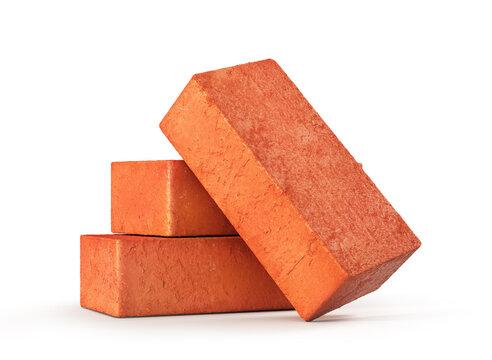Bricks: (160, 59, 422, 323), (82, 235, 275, 314), (110, 160, 237, 240)
